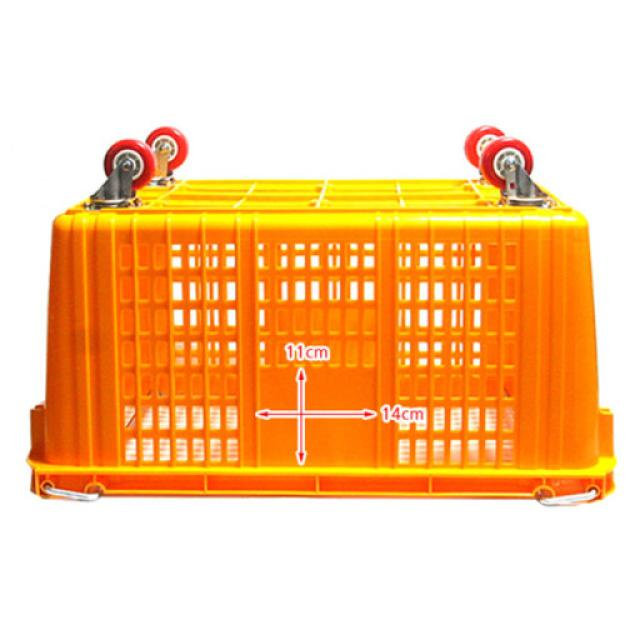basket: (29, 126, 615, 501)
